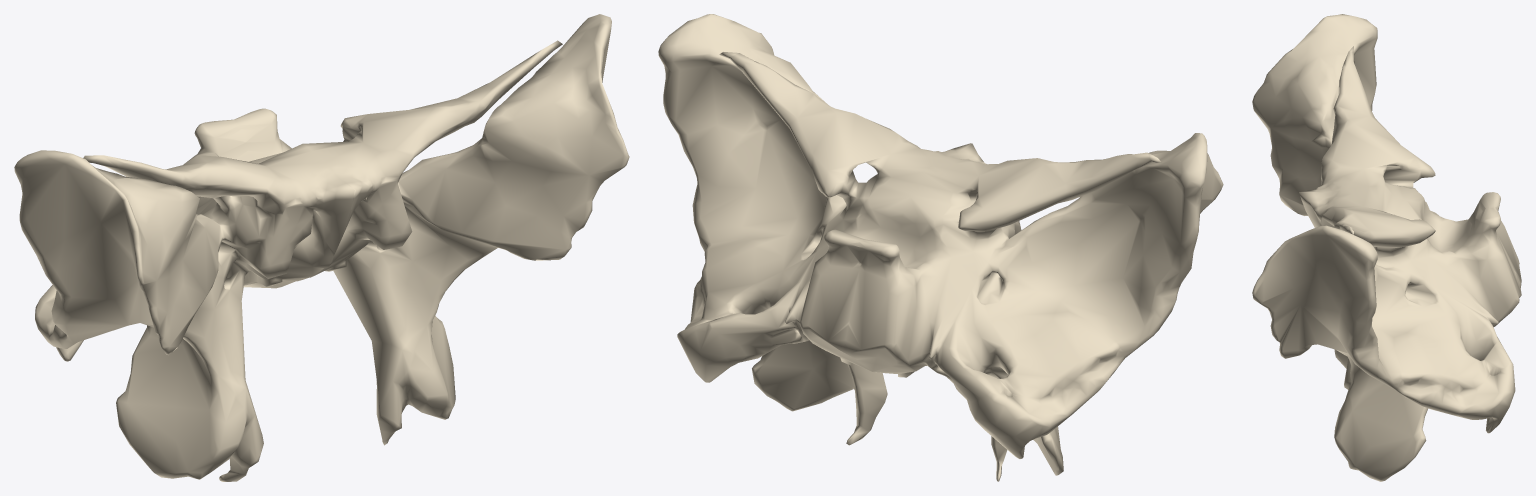
Rendered from sphenoid-bone.glb.
The picture shows the model from 3 angles, left to right: view 1: azimuth 30°, elevation 25°; view 2: azimuth 150°, elevation 25°; view 3: azimuth 270°, elevation 25°; orthographic projection. The views are drawn at different scales.
Parts seen in each view (by area): view 1: Sphenoid bone; view 2: Sphenoid bone; view 3: Sphenoid bone.
Part boxes in pixels (left/top/right/bottom): Sphenoid bone: left=14, top=14, right=629, bottom=481; Sphenoid bone: left=658, top=14, right=1223, bottom=481; Sphenoid bone: left=1252, top=14, right=1521, bottom=481.
Bounding box in the file's own units: 0.1088 × 0.0699 × 0.0532.
